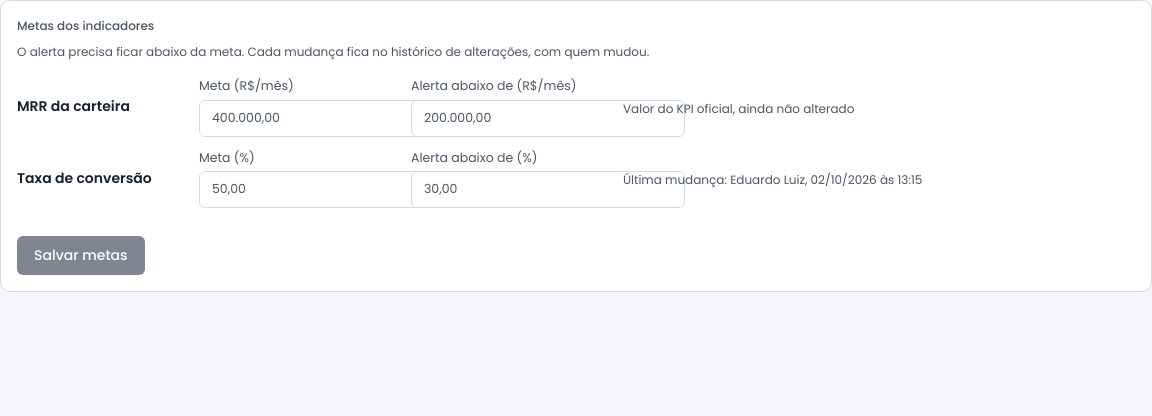
Test: Configurações › Metas › o motivo da recusa do servidor aparece
Replace the text in the field named "Alerta do MRR" with "500.000" at coordinates (548, 118), box [411, 100, 685, 137]
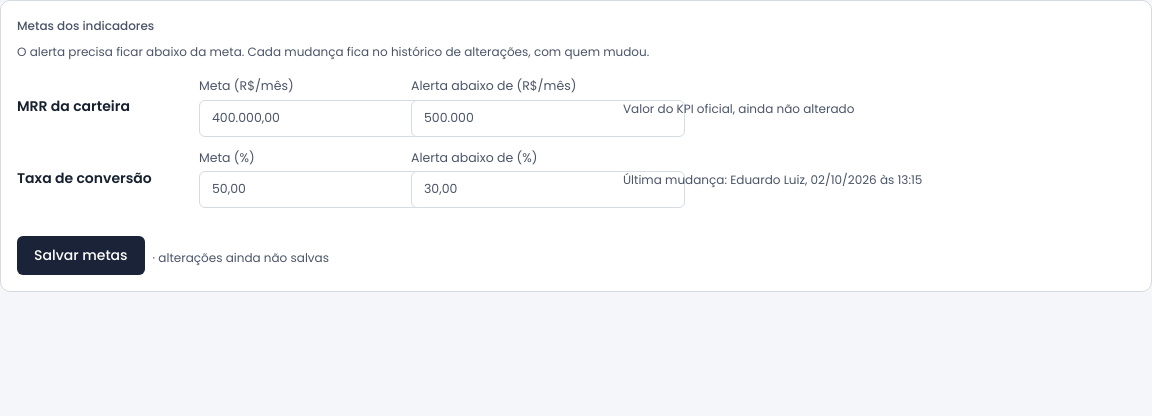
Click the button "Salvar metas" at coordinates (81, 256), box [17, 236, 145, 275]
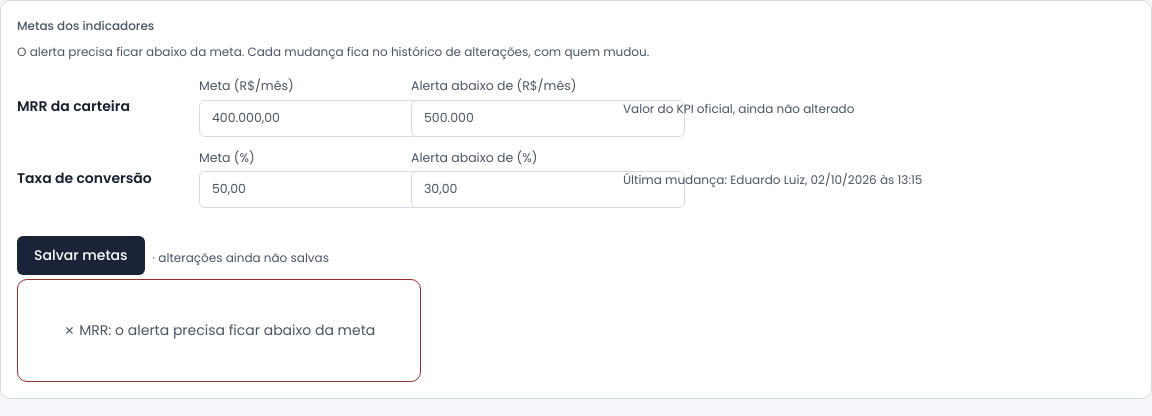
Now the message shows "o alerta precisa ficar abaixo da meta", box [79, 320, 375, 340]
